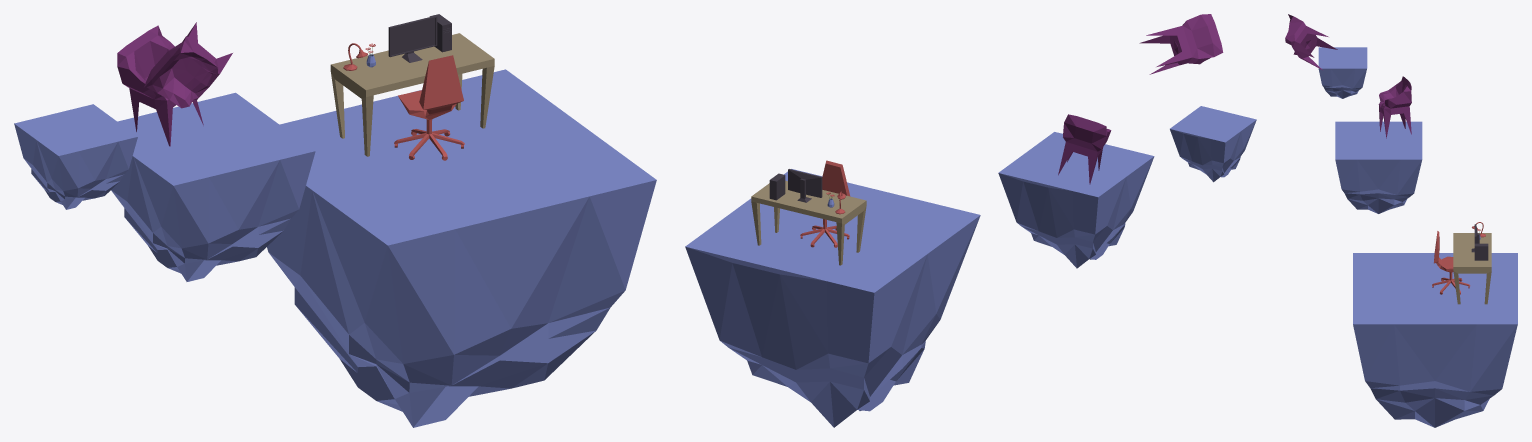
Rendered from officeIslands2.dae.
The picture shows the model from 3 angles, left to right: view 1: azimuth 30°, elevation 25°; view 2: azimuth 150°, elevation 25°; view 3: azimuth 270°, elevation 25°; orthographic projection. The views are drawn at different scales.
Visible parts, largest first — view 1: Cube_003, Cube_002, Cube_004, Cube, Cube_006, Cylinder, Cube_005, Cube_001; view 2: Cube_003, Cube_002, Cube_004, Cube, Cube_006, Cube_005, Cylinder, Cube_001; view 3: Cube_003, Cube_002, Cube_004, Cube, Cube_005, Cube_006, Cylinder, tower.
Boxes of the visible parts, box(x1,y1,x2,y2) form: Cube_003: box(267, 69, 656, 427); Cube_002: box(111, 92, 315, 281); Cube_004: box(14, 104, 137, 209); Cube: box(330, 33, 494, 156); Cube_006: box(143, 22, 232, 108); Cylinder: box(394, 55, 464, 160); Cube_005: box(117, 25, 203, 146); Cube_001: box(388, 15, 437, 62); Cube_003: box(685, 169, 980, 427); Cube_002: box(998, 132, 1154, 268); Cube_004: box(1170, 106, 1256, 182); Cube: box(751, 180, 866, 265); Cube_006: box(1139, 14, 1223, 74); Cube_005: box(1058, 114, 1111, 184); Cylinder: box(800, 160, 850, 247); Cube_001: box(788, 169, 822, 202); Cube_003: box(1353, 253, 1517, 427); Cube_002: box(1335, 121, 1422, 213); Cube_004: box(1318, 47, 1367, 98); Cube: box(1453, 233, 1491, 304); Cube_005: box(1378, 76, 1411, 138); Cube_006: box(1285, 14, 1337, 70); Cylinder: box(1432, 231, 1470, 294); tower: box(1474, 243, 1488, 260).
Bounding box in the file's own units: 12.3 × 7.21 × 10.36.
